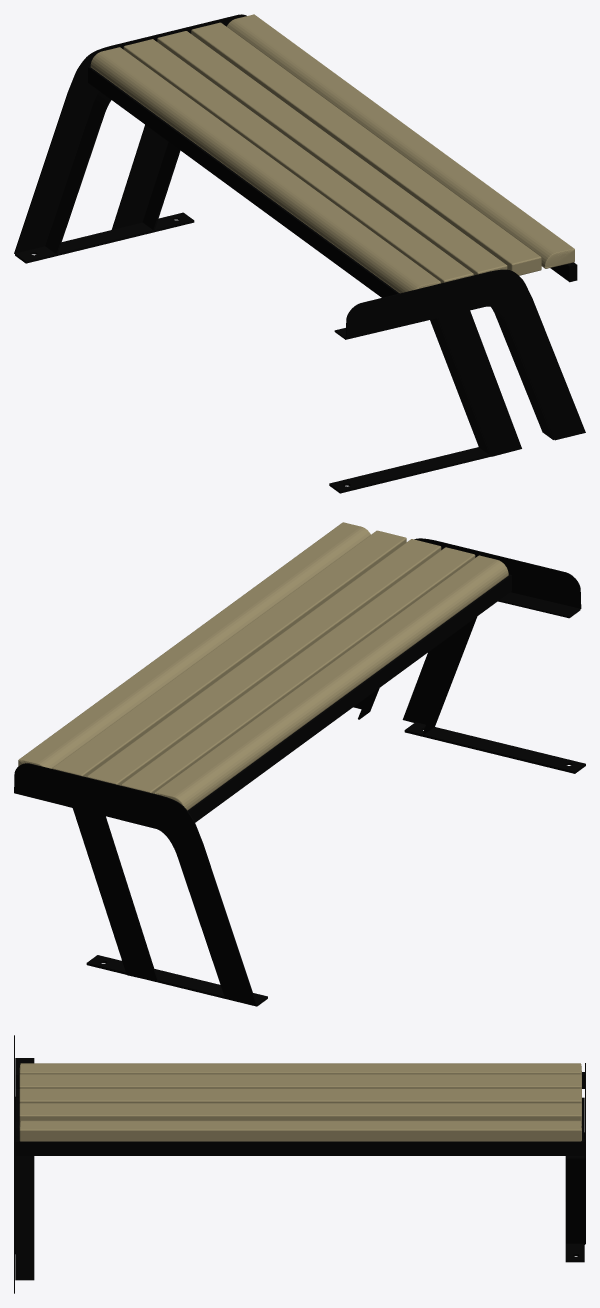
The model's file is bench.obj.
3 renders of one model, top to bottom at view 1: azimuth 30°, elevation 25°; view 2: azimuth 150°, elevation 25°; view 3: azimuth 270°, elevation 25°, orthographic. The views are drawn at different scales.
Visible parts, largest first — view 1: ChamferB11, ChamferBo7, ChamferBo8, Line05, ChamferBo9, ChamferB10, Line01_Line01.002, Box02, Line06, Line02, Line04, Box03 (+4 smaller); view 2: ChamferB11, Line01_Line01.002, ChamferBo7, ChamferBo9, ChamferBo8, ChamferB10, Box02, Line02, Line05, Box04, Line06, Box03 (+2 smaller); view 3: ChamferBo8, ChamferBo7, ChamferBo9, Box01, ChamferB10, ChamferB11, Line08, Line03, Box03.
Boxes of the visible parts, x1,y1,x2,y2 form: ChamferB11: (90,47,440,293); ChamferBo7: (191,22,541,275); ChamferBo8: (226,14,574,268); Line05: (345,269,585,440); ChamferBo9: (157,31,507,275); ChamferB10: (123,39,473,283); Line01_Line01.002: (14,14,246,253); Box02: (88,66,399,297); Line06: (438,308,521,456); Line02: (111,124,168,229); Line04: (45,91,111,253); Box03: (15,212,194,263); ChamferB11: (154,555,508,810); Line01_Line01.002: (14,763,256,1005); ChamferBo7: (52,530,406,777); ChamferBo9: (87,539,441,785); ChamferBo8: (18,522,370,768); ChamferB10: (121,547,475,793); Box02: (187,574,511,822); Line02: (73,808,158,981); Line05: (353,538,581,709); Box04: (404,722,585,773); Line06: (402,626,463,724); Box03: (86,955,267,1006); ChamferBo8: (19,1120,581,1141); ChamferBo7: (19,1103,581,1125); ChamferBo9: (19,1088,581,1103); Box01: (15,1139,584,1155); ChamferB10: (19,1074,581,1088); ChamferB11: (19,1063,581,1074); Line08: (15,1058,34,1280); Line03: (566,1132,584,1244); Box03: (565,1202,584,1262).
Bounding box in the file's own units: 0.653 × 0.4722 × 1.51.
